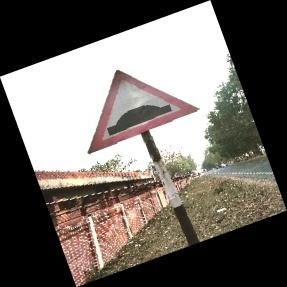Speed-breaker: (87, 70, 200, 154)
